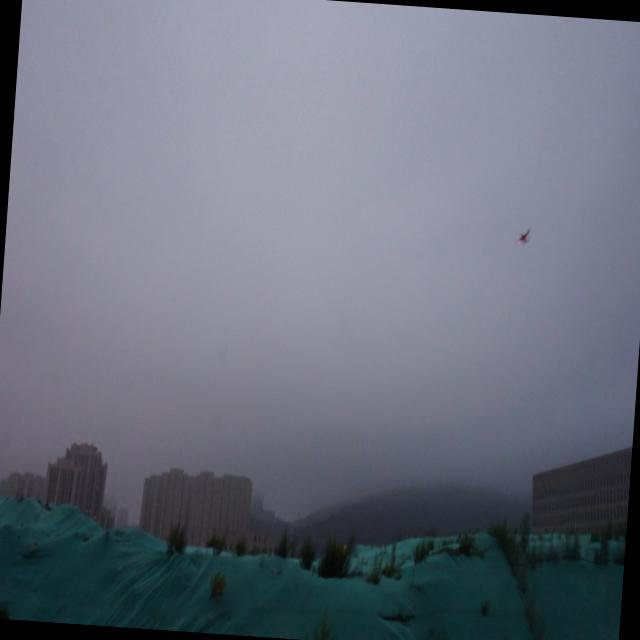drone: (514, 222, 532, 248)
